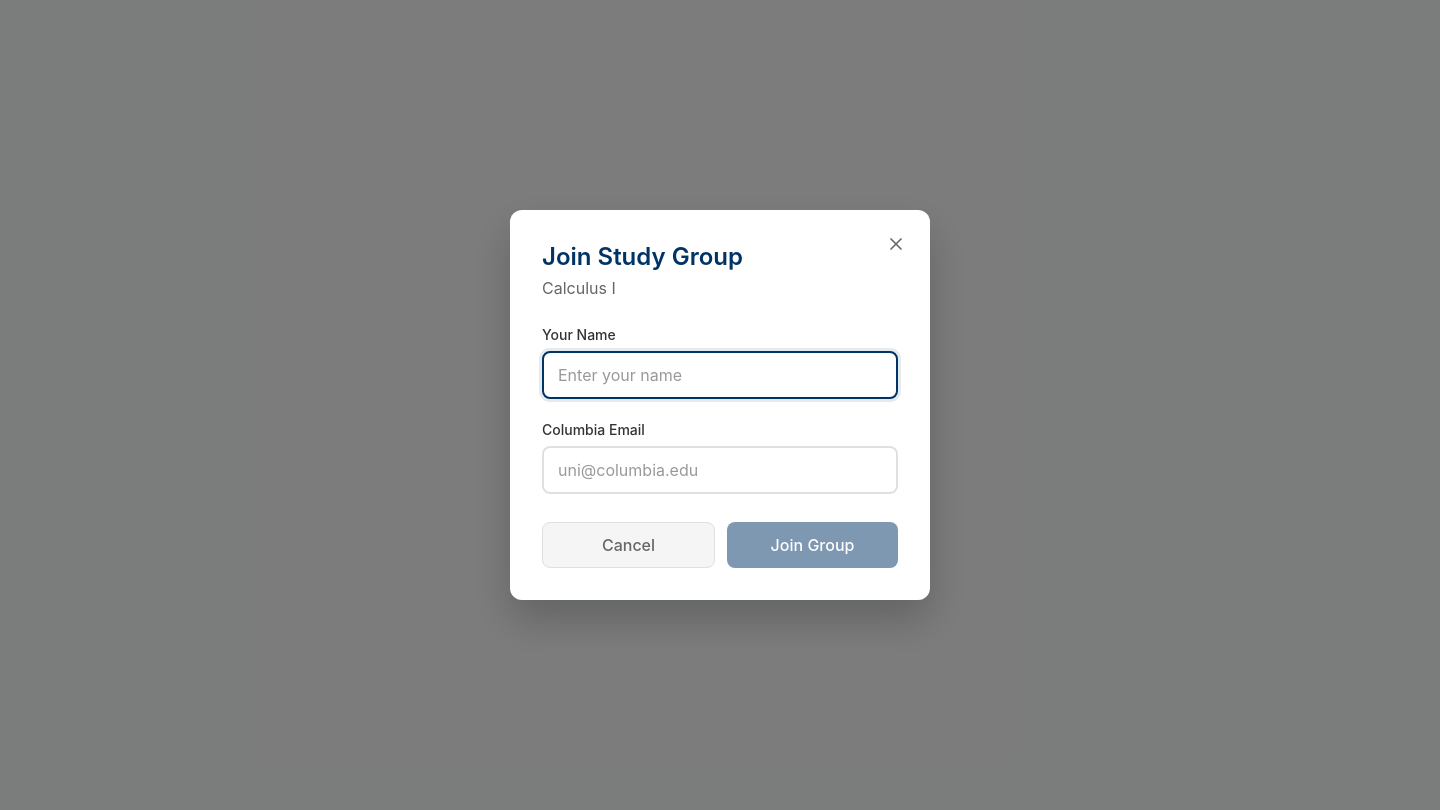
Test: JoinModal › enables submit button with valid form data
Type "John Doe" into the field labelled "Your Name" at (720, 375), box [542,351,898,399]
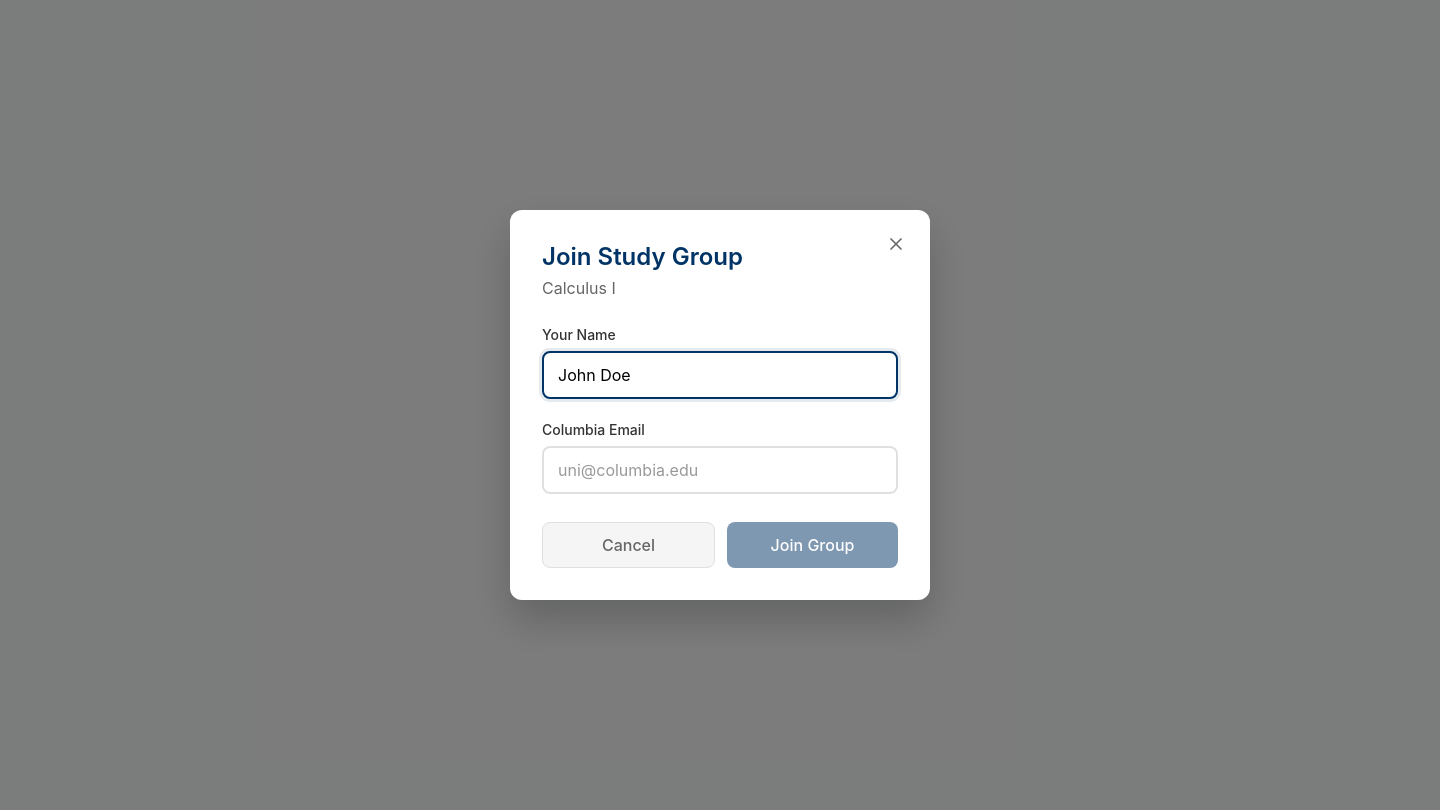
Type "jd123@columbia.edu" into the field labelled "Columbia Email" at (720, 470), box [542,446,898,494]
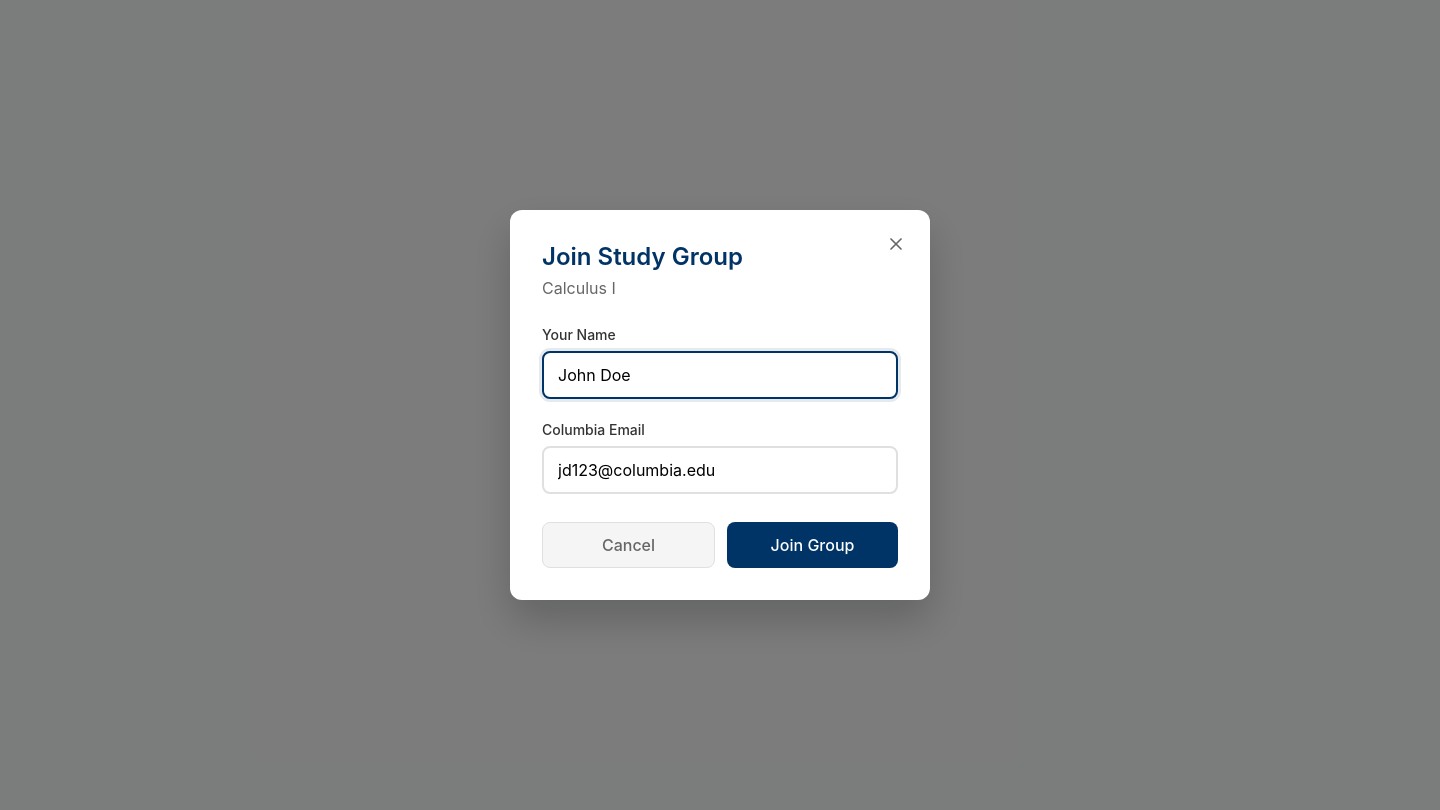
Check: the button "Join Group" is enabled, box [727,522,898,568]
